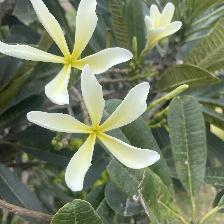champaka: (28, 64, 167, 194), (1, 1, 136, 107), (142, 3, 184, 54)
